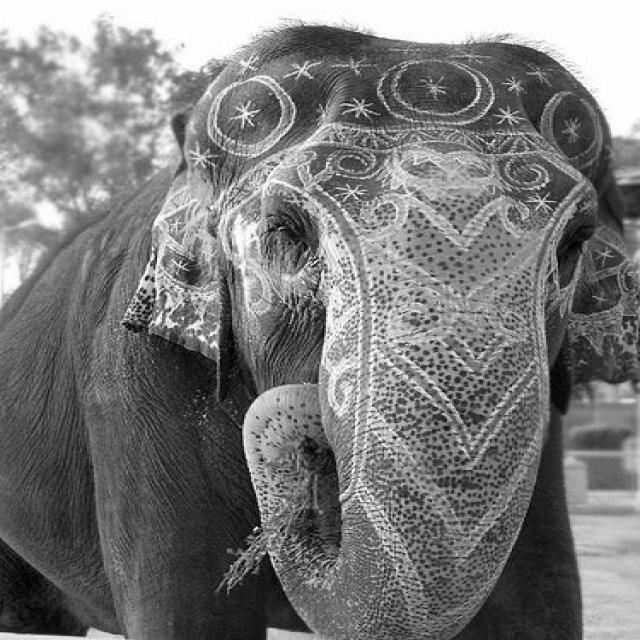Elephant: (0, 20, 638, 638)
